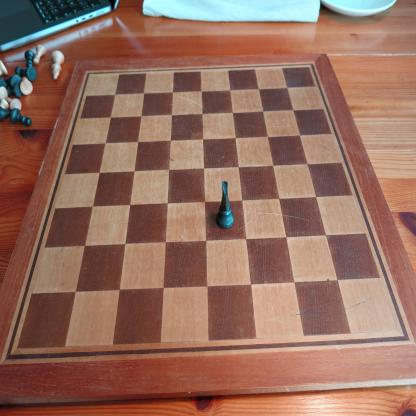black-knight: (216, 180, 235, 230)
black-pawn: (10, 108, 32, 127), (24, 50, 35, 68)
white-bishop: (51, 50, 66, 80)
white-pawn: (33, 43, 47, 66)
